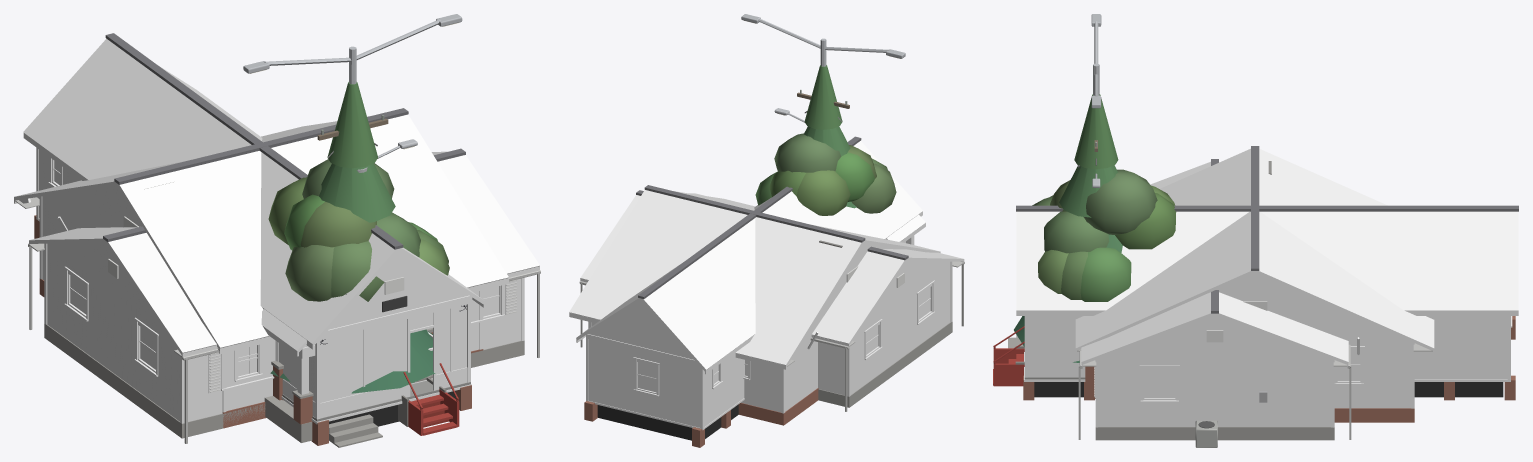
The model's file is houses_kit.glb.
3 views of the same model, side by side, from view 1: azimuth 30°, elevation 25°; view 2: azimuth 150°, elevation 25°; view 3: azimuth 270°, elevation 25° (orthographic). The views are drawn at different scales.
Parts seen in each view (by area): view 1: House_shotgun, House_bungalow, House_ranch, TreeOak, TreePine, HwyLight; view 2: House_shotgun, House_bungalow, House_ranch, TreeOak, TreePine, HwyLight; view 3: House_shotgun, House_bungalow, House_ranch, TreeOak, TreePine, HwyLight.
Boxes of the visible parts, x1,y1,x2,y2 form: House_shotgun: (23, 33, 485, 445); House_bungalow: (14, 108, 508, 447); House_ranch: (28, 148, 540, 443); TreeOak: (268, 159, 449, 301); TreePine: (270, 82, 435, 393); HwyLight: (243, 14, 462, 84); House_shotgun: (576, 136, 922, 447); House_bungalow: (569, 185, 940, 425); House_ranch: (579, 190, 964, 411); TreeOak: (755, 133, 896, 215); TreePine: (804, 65, 856, 208); HwyLight: (741, 14, 905, 66); House_shotgun: (993, 205, 1518, 400); House_bungalow: (1008, 146, 1434, 422); House_ranch: (1078, 159, 1351, 447); TreeOak: (1032, 169, 1176, 301); TreePine: (1014, 94, 1122, 362); HwyLight: (1091, 14, 1101, 108).
Bounding box in the file's own units: 13.66 × 12.36 × 19.05.
